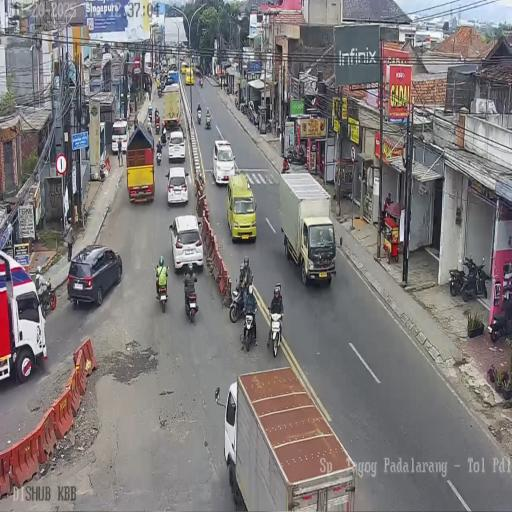3: (225, 368, 350, 511), (0, 252, 46, 386), (278, 168, 331, 283), (125, 122, 154, 205), (162, 84, 181, 130), (184, 66, 194, 86), (144, 52, 152, 73), (168, 70, 179, 84), (169, 57, 177, 71), (161, 58, 168, 72)
car: (66, 244, 123, 305), (226, 172, 256, 243), (169, 217, 204, 274), (212, 139, 236, 186), (166, 166, 190, 206), (166, 129, 186, 164), (111, 119, 129, 155), (181, 63, 187, 74), (195, 67, 201, 76)
truck: (460, 254, 489, 302), (488, 290, 511, 342), (229, 279, 247, 324), (183, 274, 199, 324), (241, 306, 257, 352), (268, 310, 283, 357), (154, 265, 169, 312), (284, 143, 306, 166), (247, 100, 258, 124), (240, 98, 249, 116), (204, 113, 212, 130), (156, 146, 162, 165), (275, 120, 281, 138), (196, 109, 202, 124), (155, 117, 160, 134), (160, 132, 166, 146), (147, 121, 152, 136), (158, 85, 163, 98), (199, 77, 203, 87)
